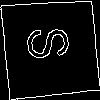S: (25, 23, 79, 62)
